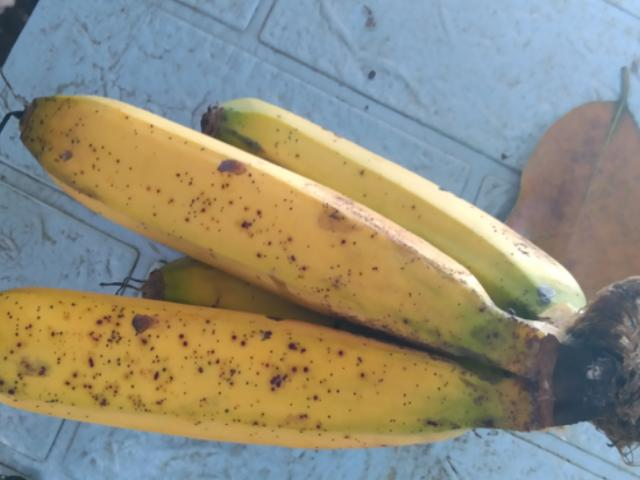ripe: (18, 81, 514, 377), (13, 284, 544, 478)
